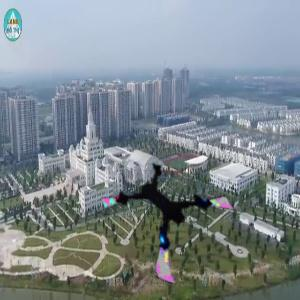drone: (115, 154, 235, 274)
